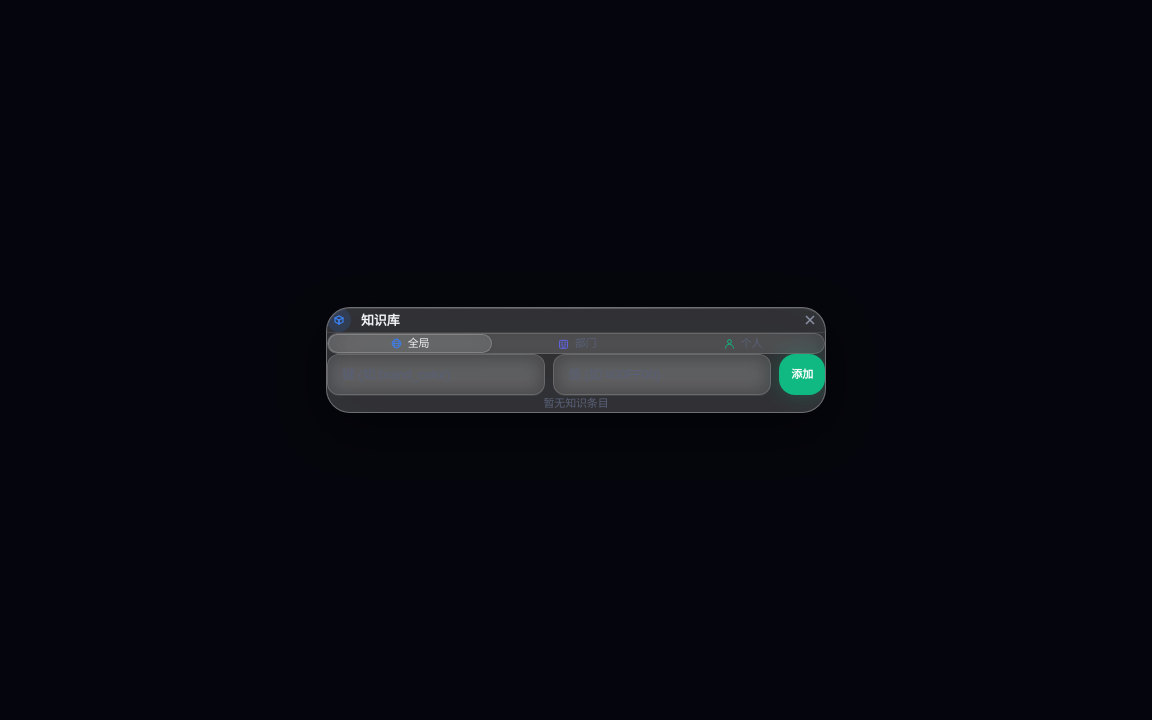
Test: KnowledgePanel UI 测试 › 切换到部门 scope
Click the button "部门": [577, 344] box 496,334 -> 658,353
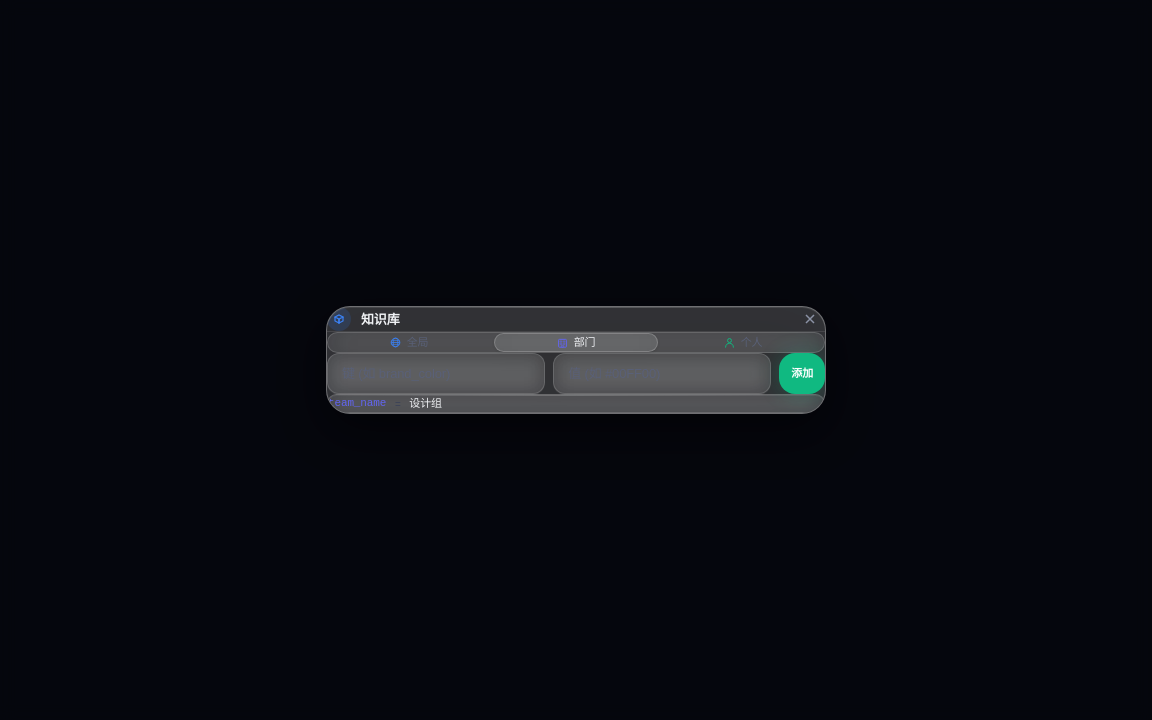
Expected: the text "team_name" is shown, 328,395 -> 386,412
